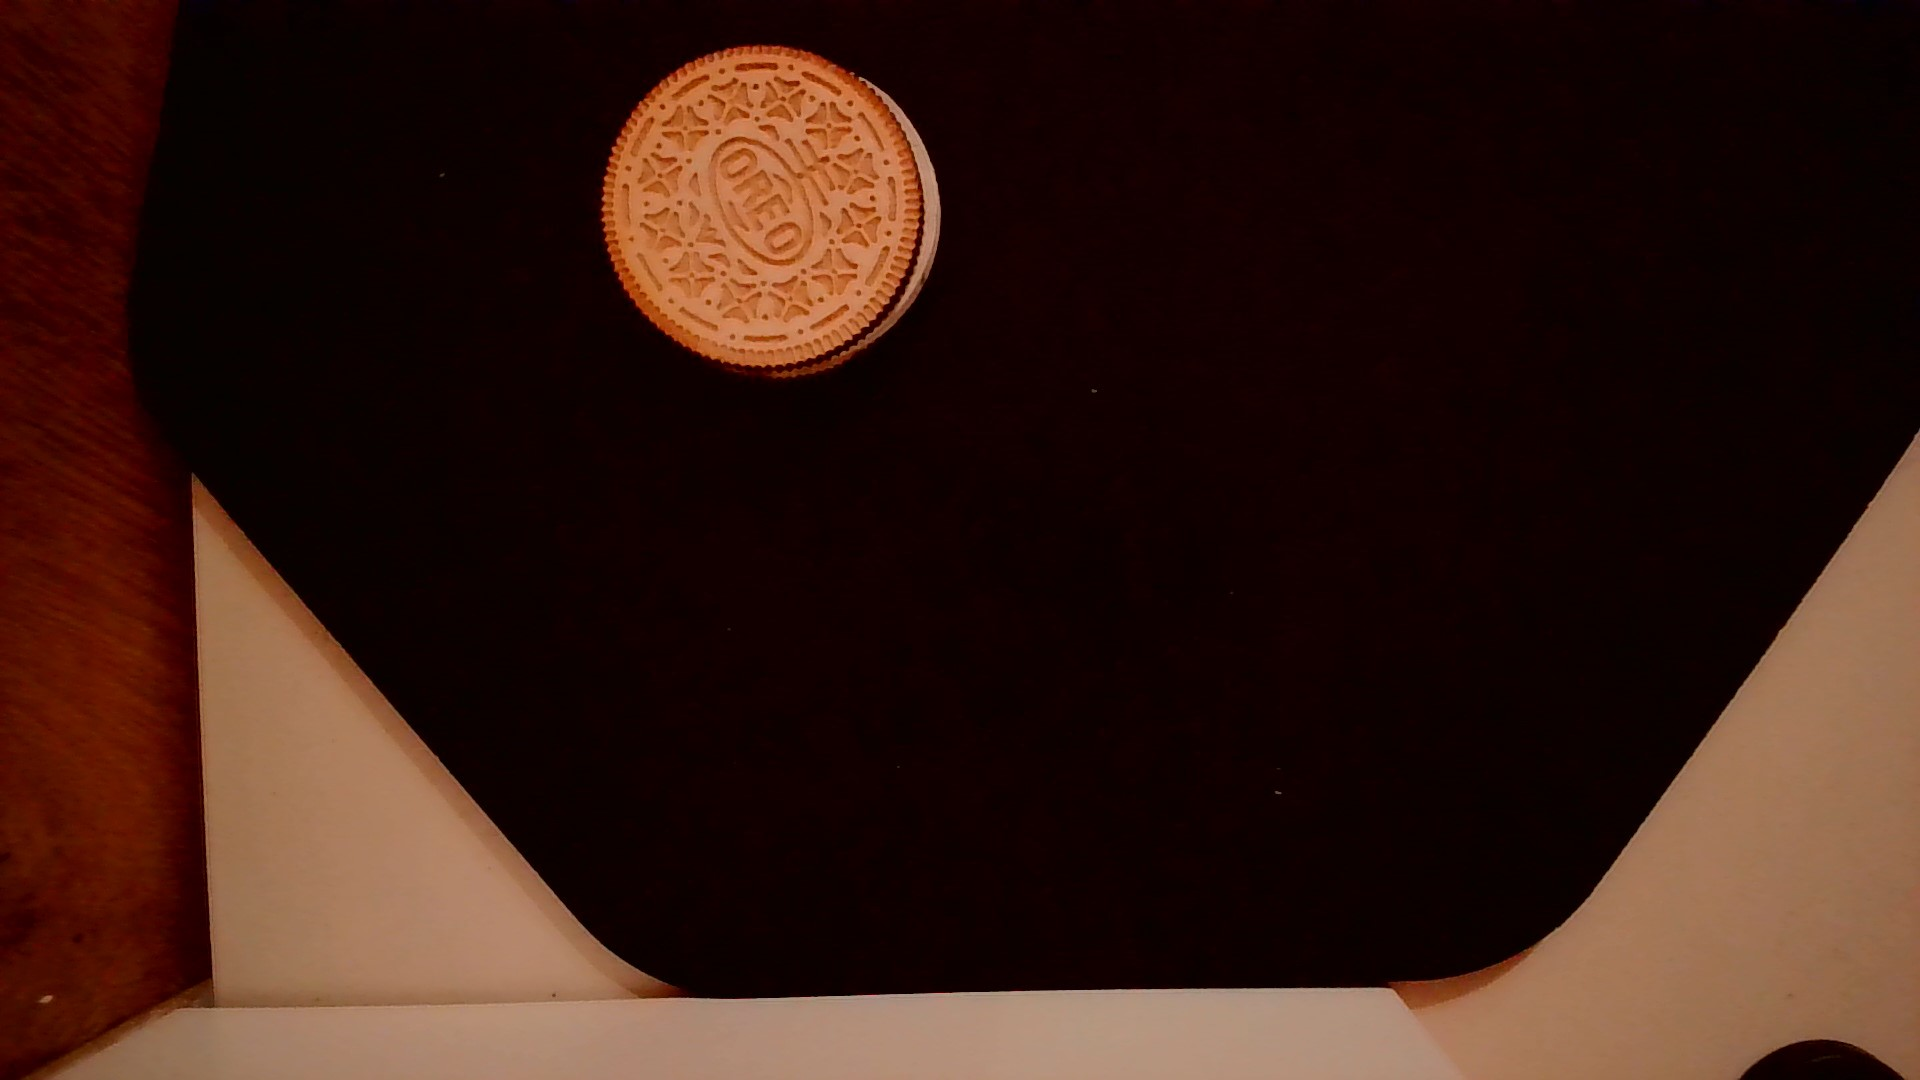Décalé: (841, 73, 952, 348)
Oréo: (592, 38, 944, 389)
